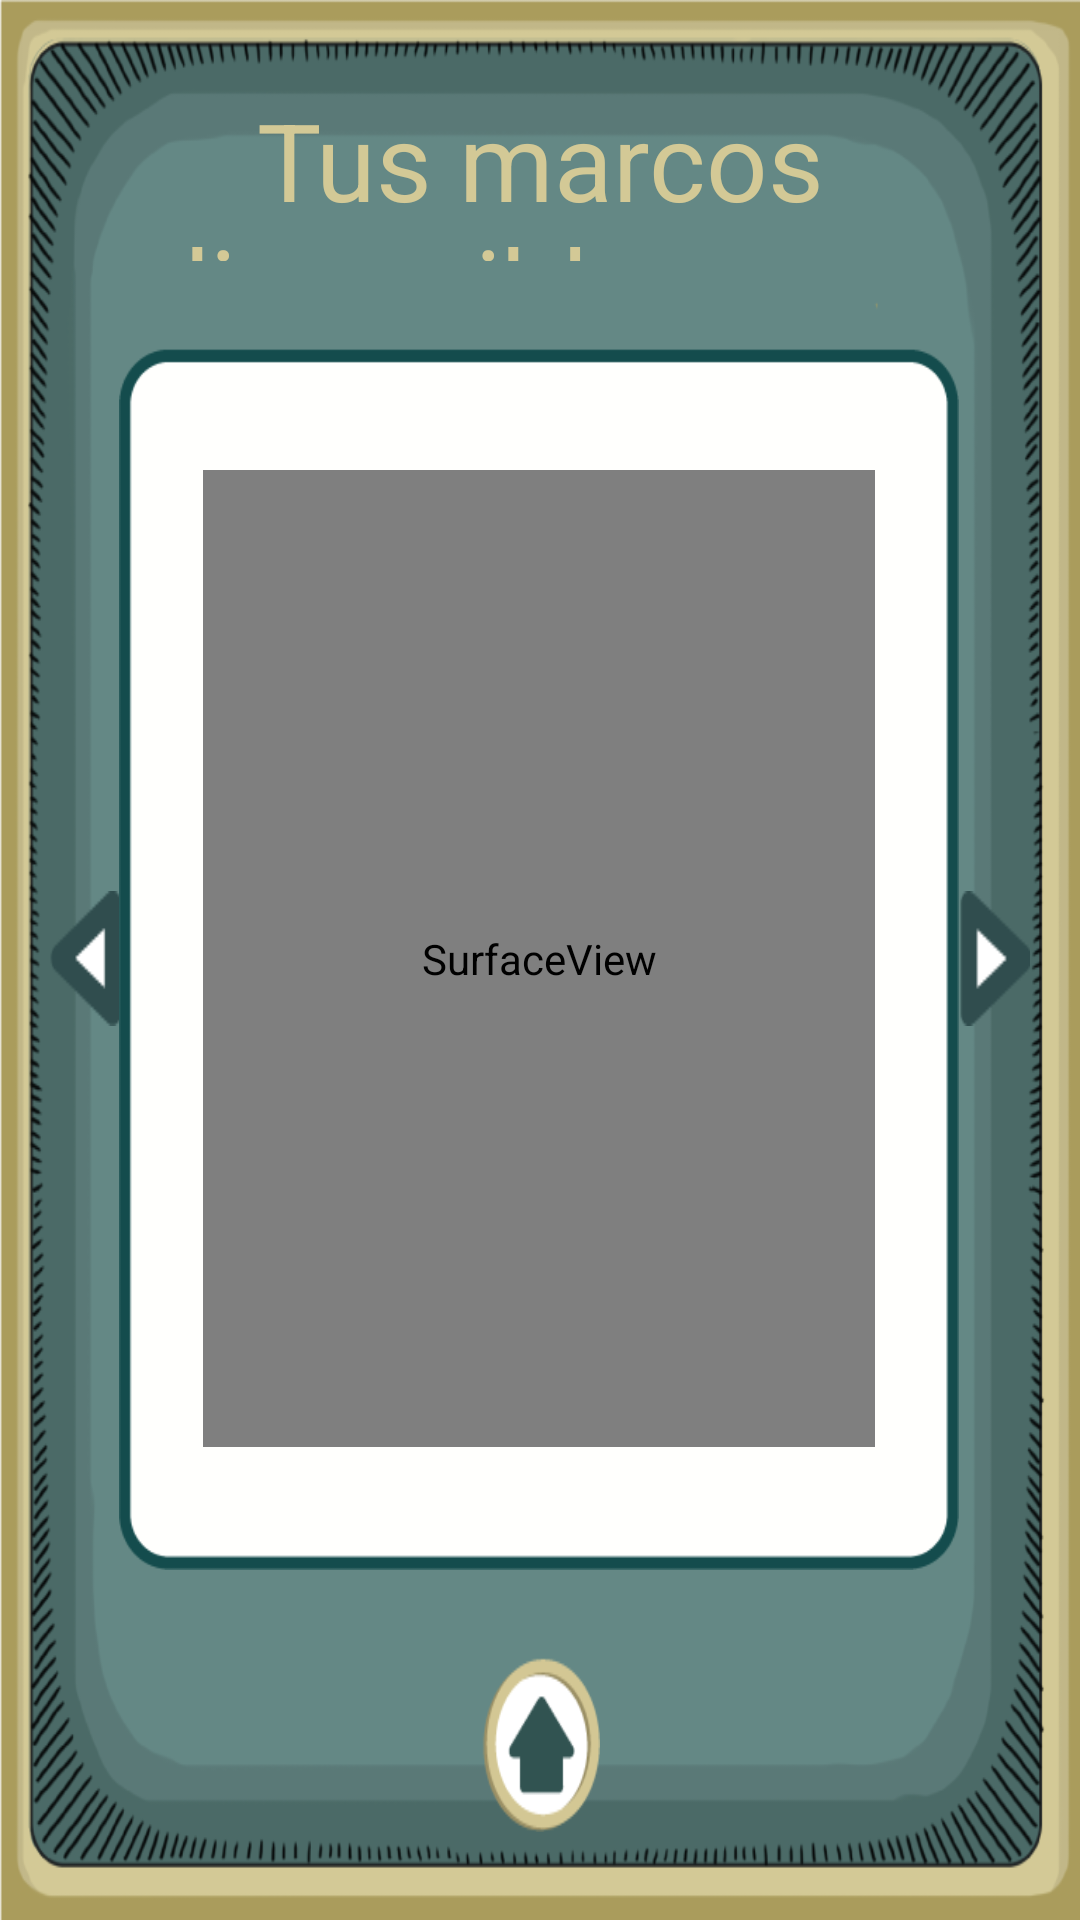

Icons on this 1080px x 1920px Android screen, each with the point to tap as (x,y):
adelante: (994,958)
atras: (84,958)
botonhome: (540,1745)
